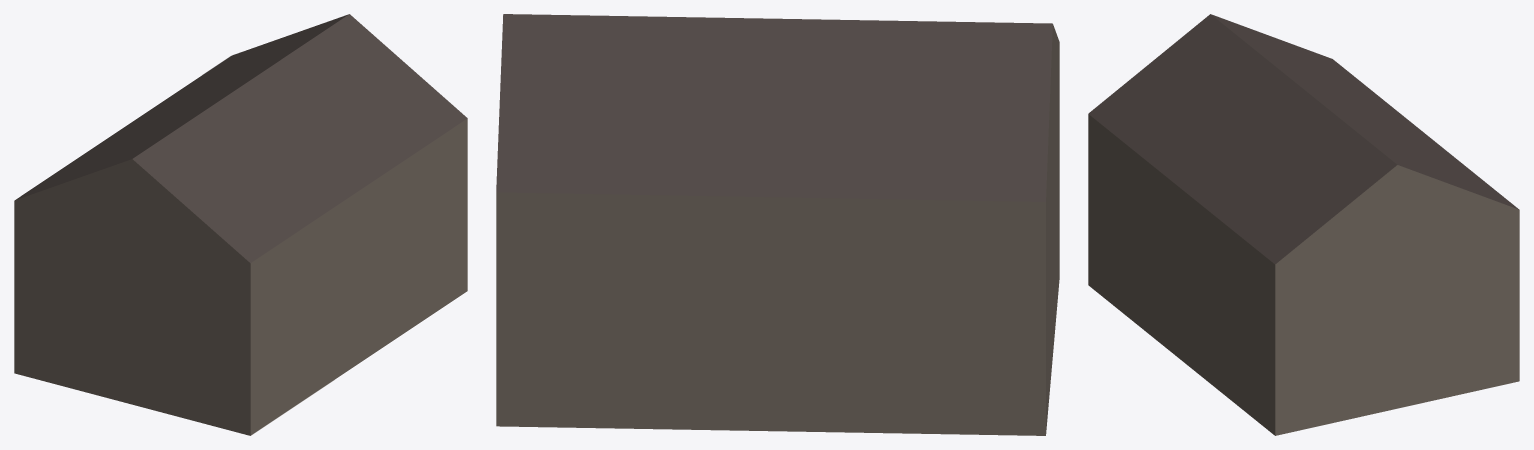
3 renders of one model, left to right at view 1: azimuth 30°, elevation 25°; view 2: azimuth 150°, elevation 25°; view 3: azimuth 270°, elevation 25°, orthographic. The views are drawn at different scales.
Parts seen in each view (by area): view 1: HP-w859088455; view 2: HP-w859088455; view 3: HP-w859088455.
Boxes of the visible parts, <box> form: HP-w859088455: <box>14,14,467,435</box>; HP-w859088455: <box>496,14,1059,435</box>; HP-w859088455: <box>1088,14,1519,435</box>.
Size of the model in its own units: 23.15 by 12.8 by 20.54.
